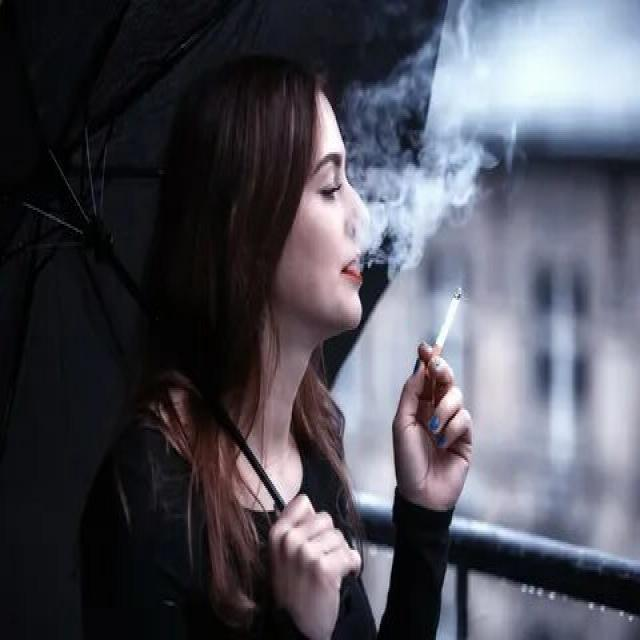cigarette: (421, 284, 467, 380)
